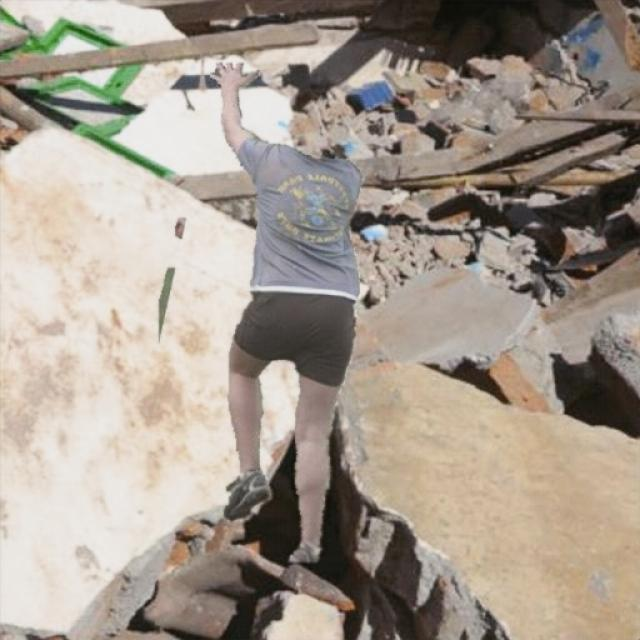Person in Rubble: (158, 62, 362, 562)
